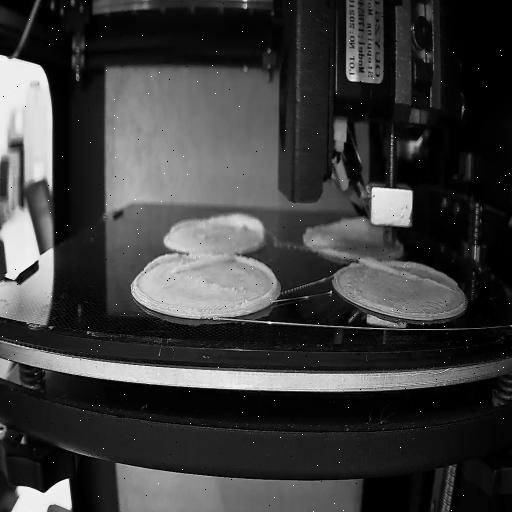over_extrusion: (357, 256, 451, 292), (144, 252, 236, 276), (238, 254, 278, 308), (212, 212, 270, 246), (328, 216, 382, 238), (170, 218, 198, 234)
